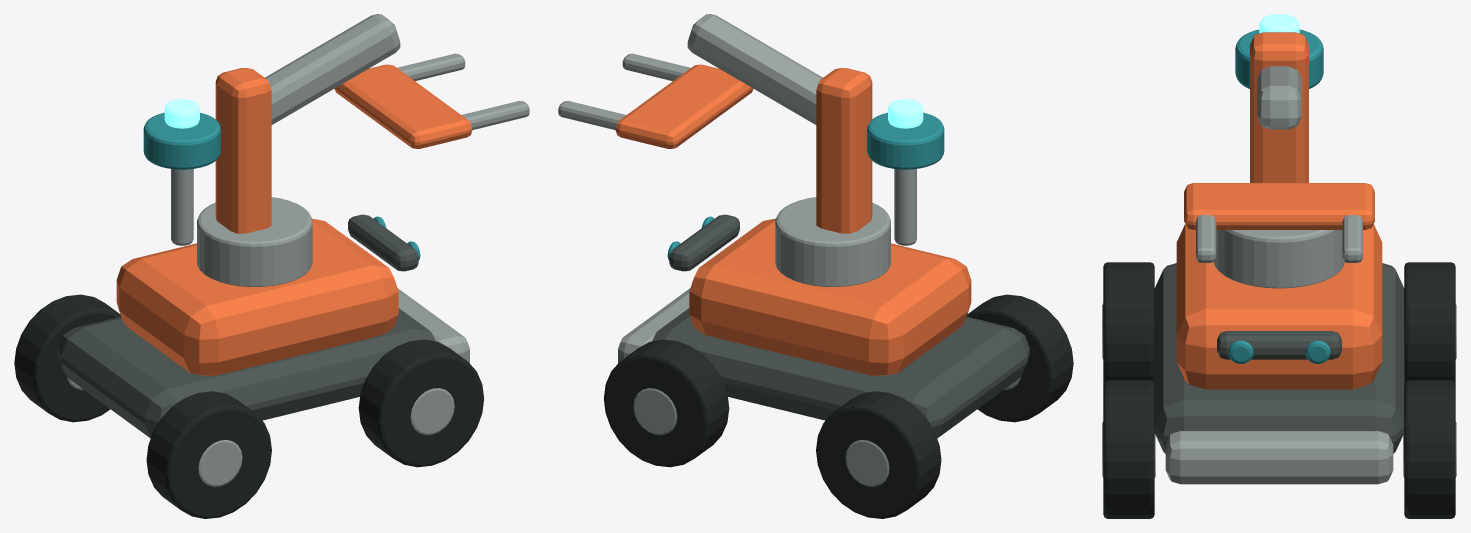
Rendered from construction_robot.glb.
3 views of the same model, side by side, from view 1: azimuth 30°, elevation 25°; view 2: azimuth 150°, elevation 25°; view 3: azimuth 270°, elevation 25° (orthographic). The views are drawn at different scales.
Visible parts, largest first — view 1: upper_chassis, lower_chassis, wheel_rear_right, wheel_front_right, arm_mast, arm_base, wheel_rear_left, lift_boom, payload_fork, lidar, camera_bar, sensor_mast (+6 smaller); view 2: upper_chassis, lower_chassis, wheel_rear_left, wheel_front_left, arm_mast, arm_base, wheel_rear_right, lift_boom, payload_fork, lidar, camera_bar, sensor_mast (+6 smaller); view 3: upper_chassis, lower_chassis, front_bumper, payload_fork, wheel_front_left, wheel_front_right, arm_base, arm_mast, wheel_rear_left, wheel_rear_right, camera_bar, lift_boom (+6 smaller).
Boxes of the visible parts, x1=… form: upper_chassis: x1=116, y1=218, x2=398, y2=375; lower_chassis: x1=58, y1=308, x2=435, y2=438; wheel_rear_right: x1=146, y1=391, x2=271, y2=518; wheel_front_right: x1=358, y1=339, x2=484, y2=467; arm_mast: x1=215, y1=68, x2=271, y2=233; arm_base: x1=197, y1=197, x2=312, y2=286; wheel_rear_left: x1=14, y1=294, x2=120, y2=422; lift_boom: x1=265, y1=14, x2=400, y2=124; payload_fork: x1=334, y1=64, x2=472, y2=148; lidar: x1=143, y1=112, x2=220, y2=169; camera_bar: x1=348, y1=214, x2=418, y2=271; sensor_mast: x1=171, y1=169, x2=193, y2=245; upper_chassis: x1=689, y1=218, x2=971, y2=375; lower_chassis: x1=652, y1=308, x2=1029, y2=438; wheel_rear_left: x1=816, y1=391, x2=941, y2=518; wheel_front_left: x1=603, y1=339, x2=729, y2=467; arm_mast: x1=816, y1=68, x2=872, y2=233; arm_base: x1=775, y1=197, x2=890, y2=286; wheel_rear_right: x1=967, y1=294, x2=1073, y2=422; lift_boom: x1=687, y1=14, x2=822, y2=124; payload_fork: x1=615, y1=64, x2=753, y2=148; lidar: x1=867, y1=112, x2=944, y2=169; camera_bar: x1=669, y1=214, x2=739, y2=271; sensor_mast: x1=894, y1=169, x2=916, y2=245; upper_chassis: x1=1176, y1=224, x2=1382, y2=389; lower_chassis: x1=1154, y1=263, x2=1404, y2=453; front_bumper: x1=1165, y1=431, x2=1393, y2=484; payload_fork: x1=1184, y1=183, x2=1374, y2=229; wheel_front_left: x1=1404, y1=380, x2=1455, y2=518; wheel_front_right: x1=1103, y1=380, x2=1154, y2=518; arm_base: x1=1214, y1=230, x2=1344, y2=288; arm_mast: x1=1250, y1=32, x2=1308, y2=182; wheel_rear_left: x1=1404, y1=262, x2=1455, y2=383; wheel_rear_right: x1=1103, y1=262, x2=1154, y2=383; camera_bar: x1=1217, y1=331, x2=1341, y2=359; lift_boom: x1=1257, y1=66, x2=1301, y2=129.
Bounding box in the file's own units: 1.45 × 1.32 × 0.965.
